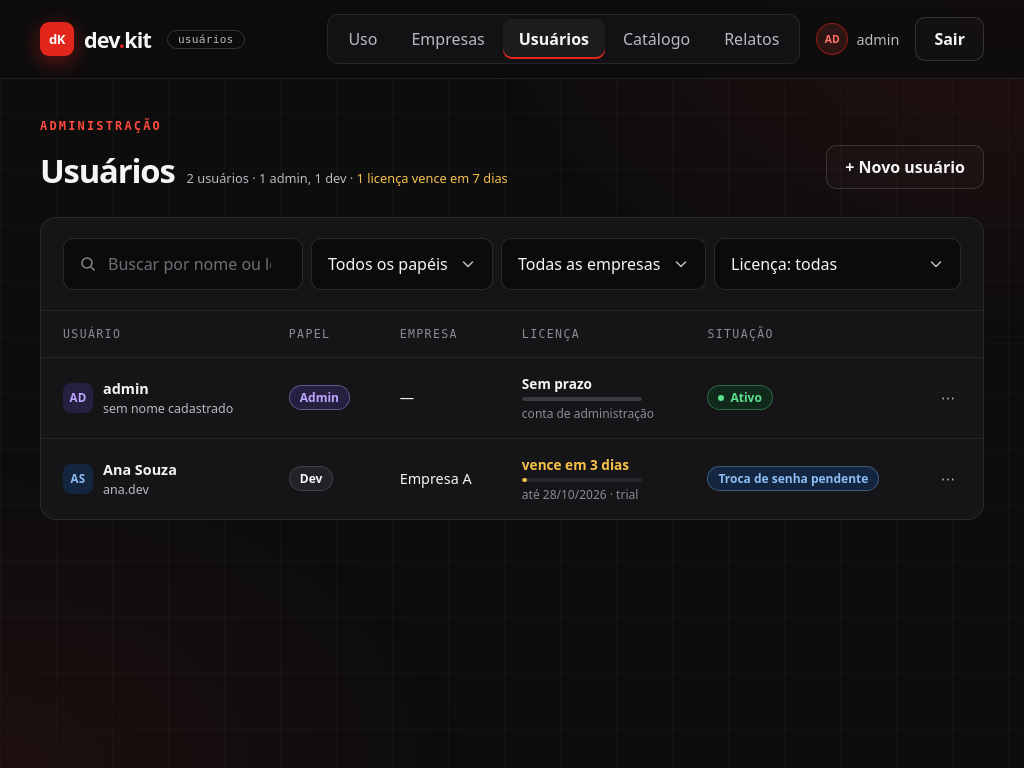
Scenario: Usuários (US #405; visual da US #461) › a dica embaixo do papel muda com o papel escolhido
Click the button "+ Novo usuário". click: (905, 167)
box: [826, 145, 984, 189]
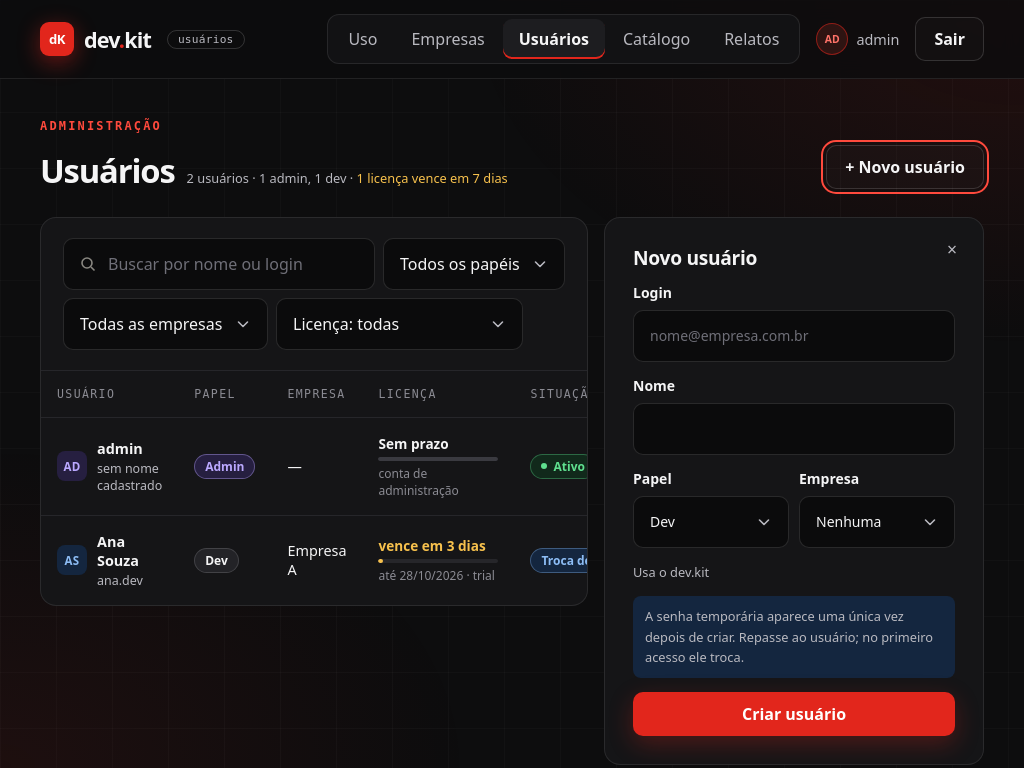
Select "Admin" in the dropdown labelled "Papel". click: (711, 522)
box: [633, 496, 789, 548]
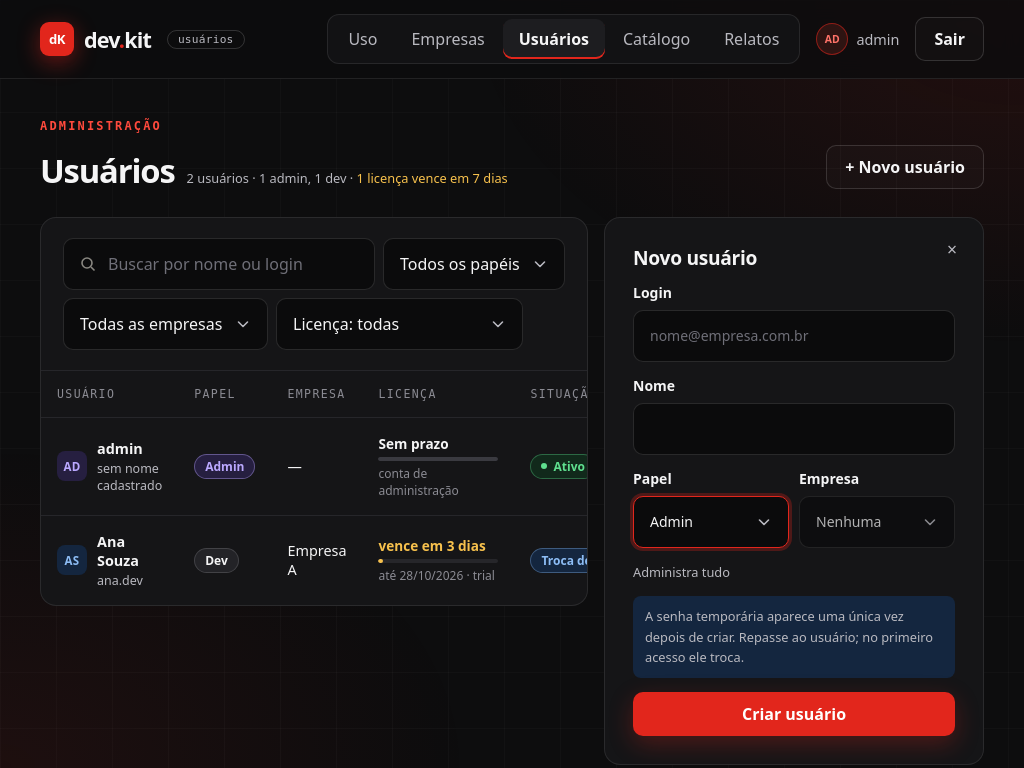
Check: the text "Administra tudo" is shown, box [633, 563, 730, 581]
Check: the dropdown named "Empresa do novo usuário" is disabled, box [799, 496, 955, 548]
